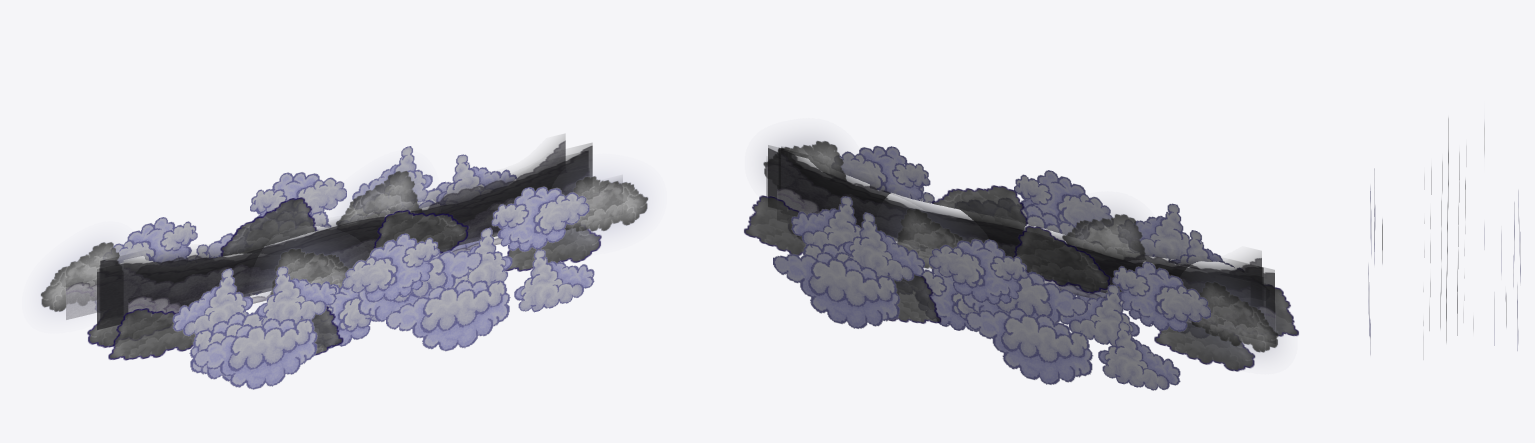
Rendered from PlataformaNuvem.glb.
3 renders of one model, left to right at view 1: azimuth 30°, elevation 25°; view 2: azimuth 150°, elevation 25°; view 3: azimuth 270°, elevation 25°, orthographic. The views are drawn at different scales.
Visible parts, largest first — view 1: Cube.247; view 2: Cube.247; view 3: Cube.247.
Part boxes in pixels (box(x1,y1,x2,y2)): Cube.247: box(40, 134, 648, 389); Cube.247: box(744, 135, 1298, 390); Cube.247: box(1368, 118, 1520, 359).
Bounding box in the file's own units: 14.89 × 6.58 × 4.05.
9 materials, 8 textured.
